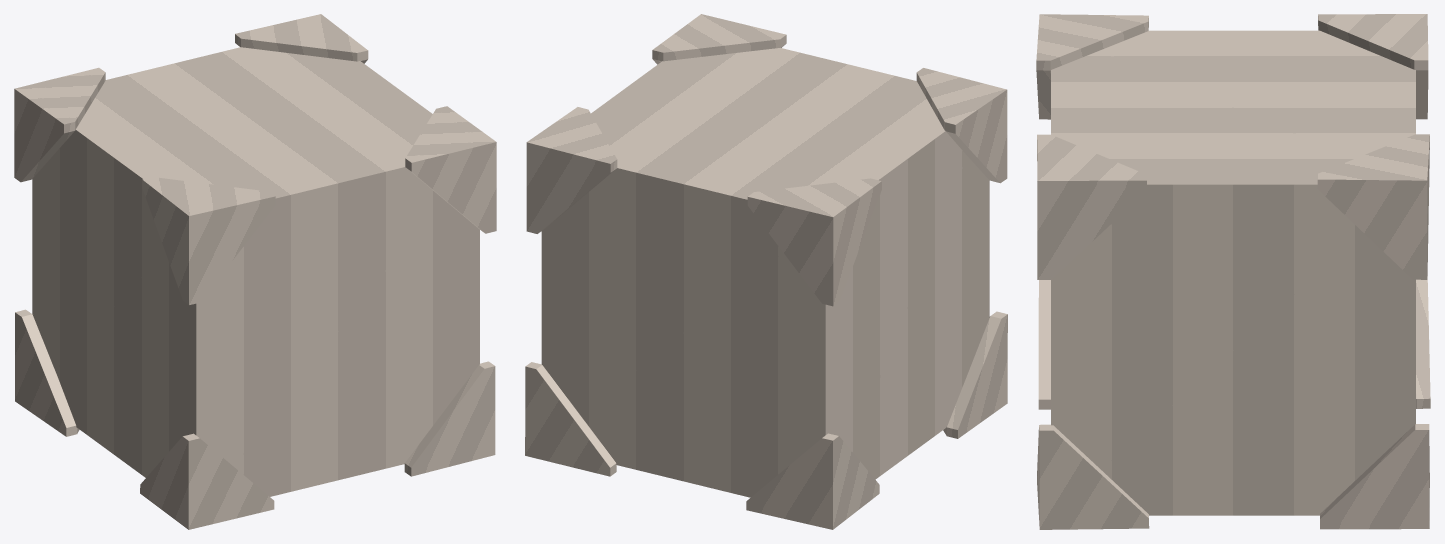
The model's file is Props_BoxSmall.fbx.
3 views of the same model, side by side, from view 1: azimuth 30°, elevation 25°; view 2: azimuth 150°, elevation 25°; view 3: azimuth 270°, elevation 25° (orthographic). The views are drawn at different scales.
Parts seen in each view (by area): view 1: pCube140; view 2: pCube140; view 3: pCube140.
Boxes of the visible parts, x1,y1,x2,y2 form: pCube140: [14, 14, 496, 529]; pCube140: [525, 14, 1007, 529]; pCube140: [1036, 14, 1430, 529].
Size of the model in its own units: 0.541 by 0.528 by 0.54.
